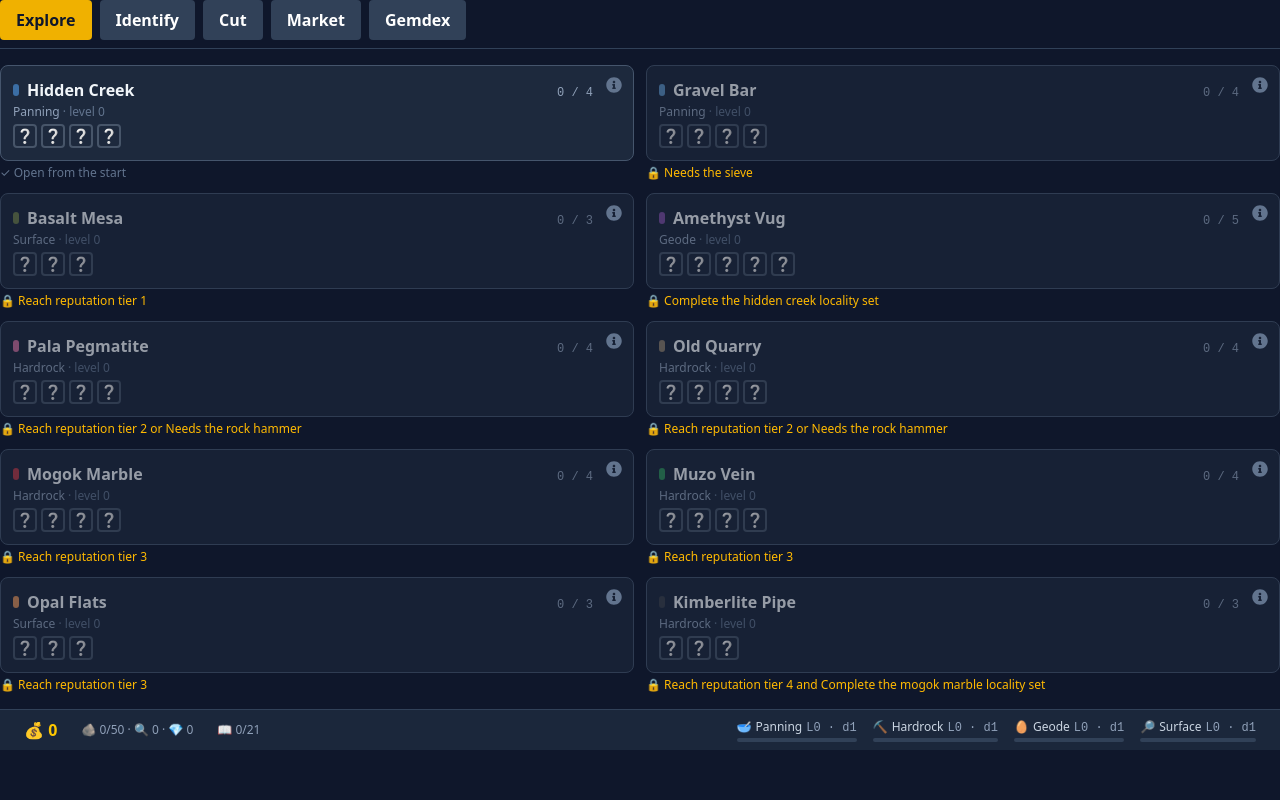
Test: Rockhound shell › opens a locality field guide from the Explore map
Click the button named "Hidden Creek field guide". click: (614, 85)
box: [602,73,626,97]
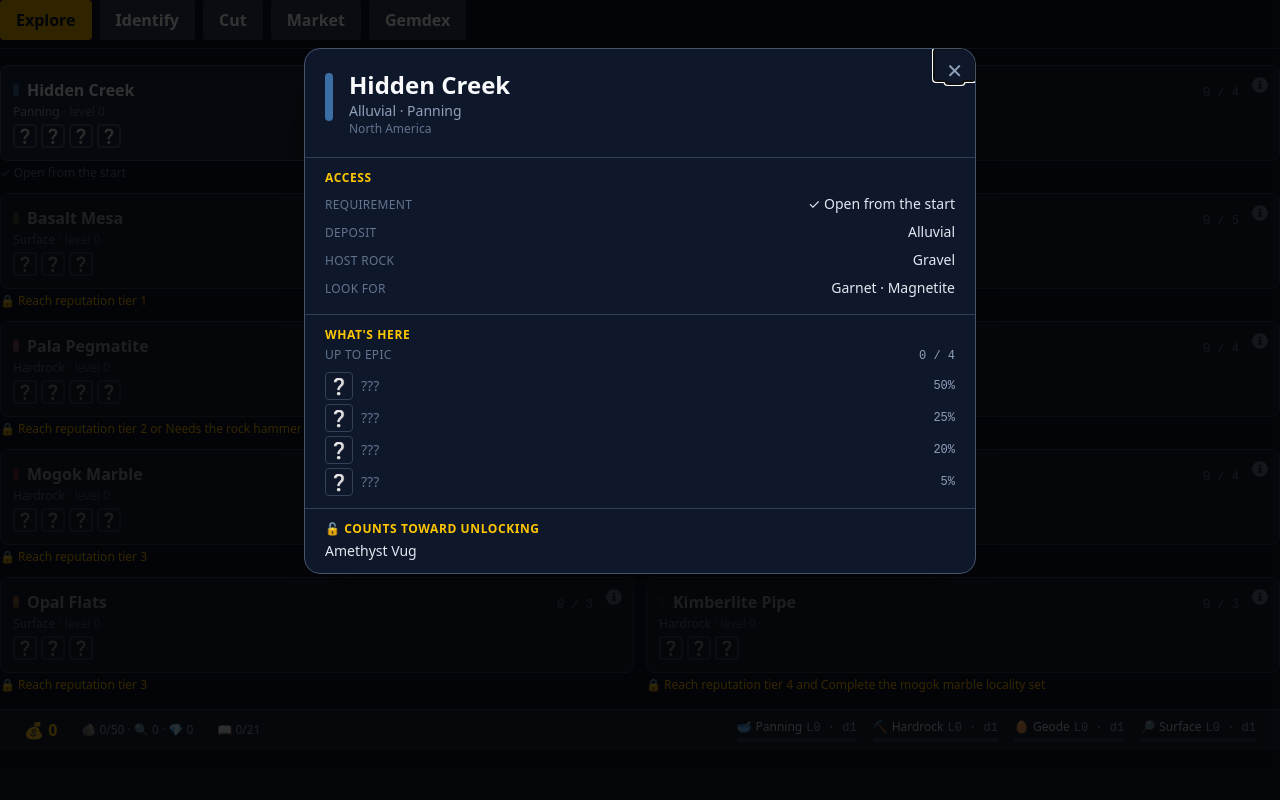
Expected: the dialog is shown, [304,48,976,574]
Expected: the text "Look for" is shown, [325,281,386,297]
